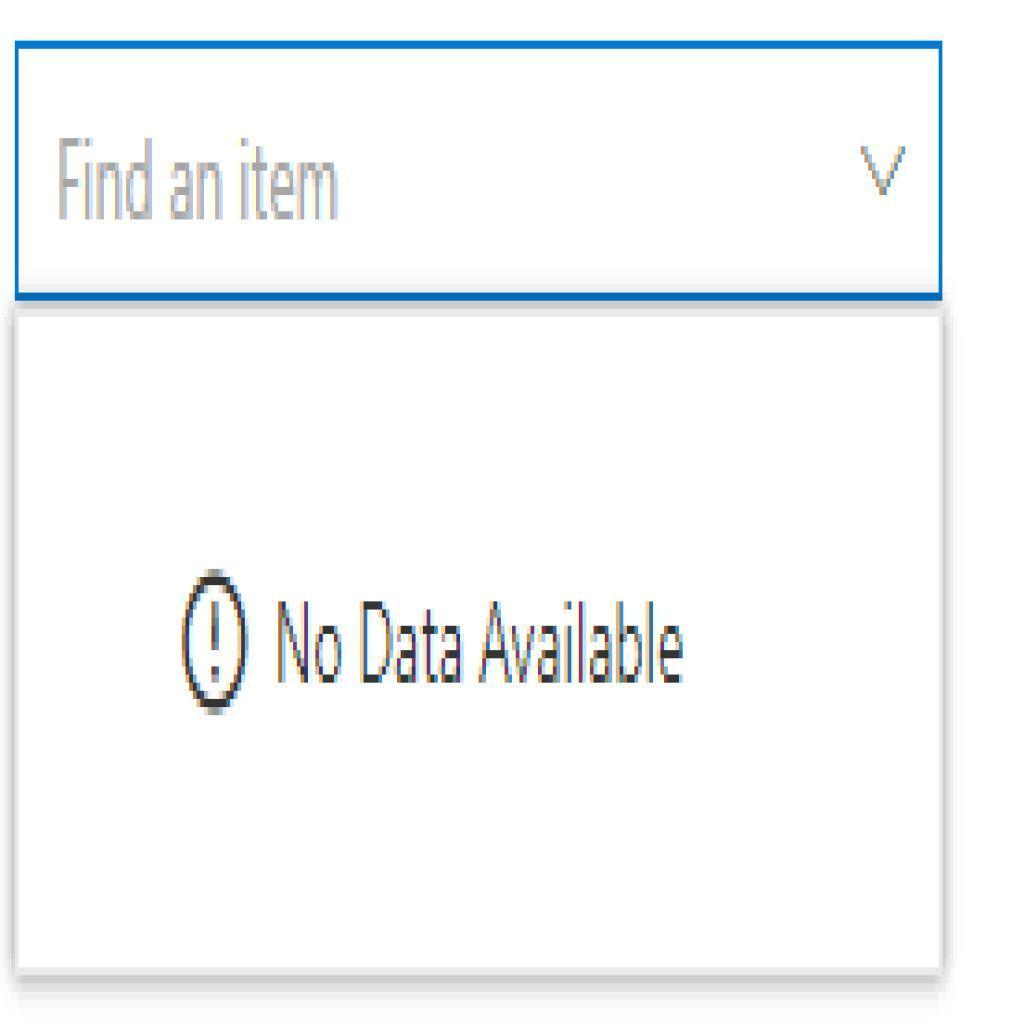dropdown: (16, 44, 942, 301)
icon: (182, 563, 249, 717)
label: (269, 593, 693, 695)
